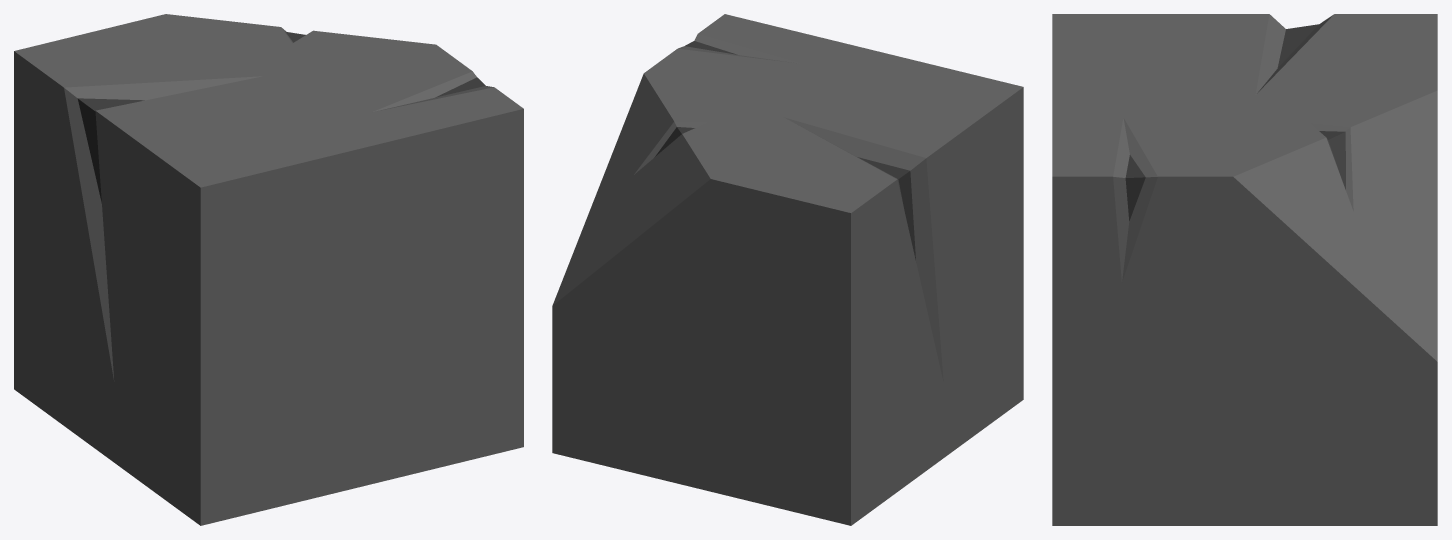
File: block_good.glb
3 renders of one model, left to right at view 1: azimuth 30°, elevation 25°; view 2: azimuth 150°, elevation 25°; view 3: azimuth 270°, elevation 25°, orthographic. The views are drawn at different scales.
Parts seen in each view (by area): view 1: Cube; view 2: Cube; view 3: Cube.
Part boxes in pixels (x1=…): Cube: x1=14, y1=14, x2=523, y2=525; Cube: x1=552, y1=14, x2=1023, y2=525; Cube: x1=1052, y1=14, x2=1437, y2=525.
Size of the model in its own units: 2 by 2 by 2.
Materials: 1 (1 with a texture image).
